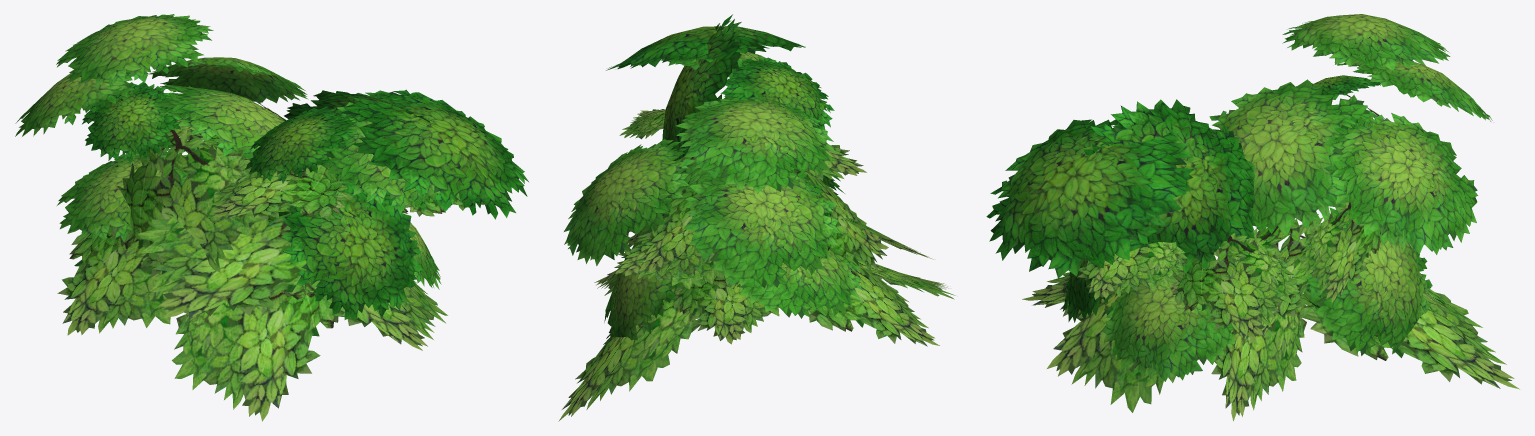
The model's file is Leave_FBX.FBX.
The picture shows the model from 3 angles, left to right: view 1: azimuth 30°, elevation 25°; view 2: azimuth 150°, elevation 25°; view 3: azimuth 270°, elevation 25°; orthographic projection. The views are drawn at different scales.
Parts seen in each view (by area): view 1: Line003; view 2: Line003; view 3: Line003.
Boxes of the visible parts, left/top/right/bottom form: Line003: left=15, top=14, right=528, bottom=421; Line003: left=558, top=14, right=955, bottom=421; Line003: left=986, top=14, right=1519, bottom=421.
Bounding box in the file's own units: 348 × 384 × 241.
